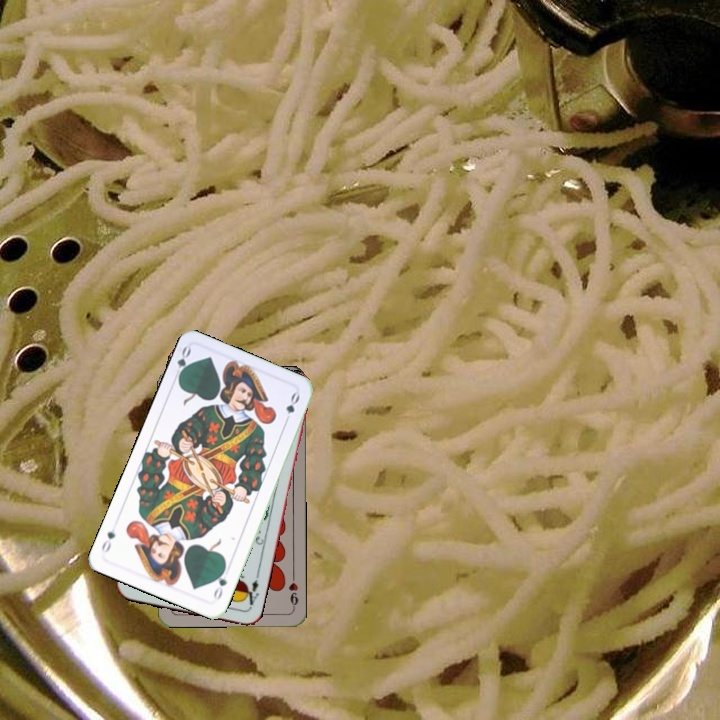EA: (239, 571, 262, 611)
GO: (170, 342, 194, 383), (209, 564, 230, 602)
H9: (284, 570, 300, 610)
